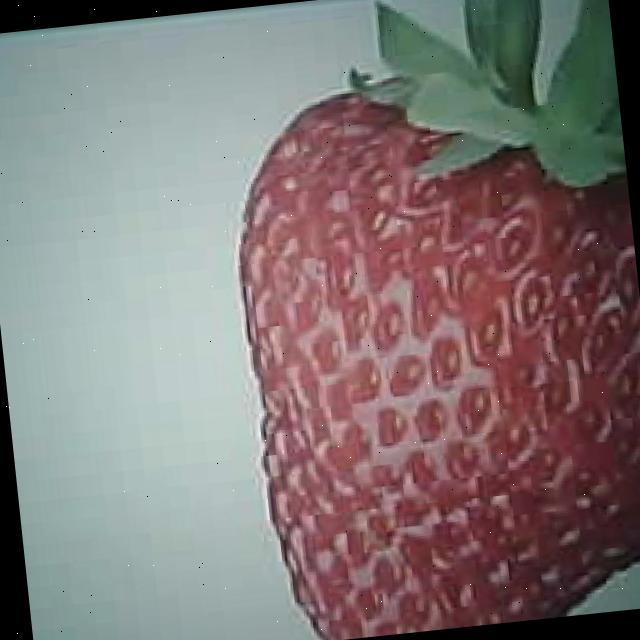strawberry: (213, 61, 640, 640)
